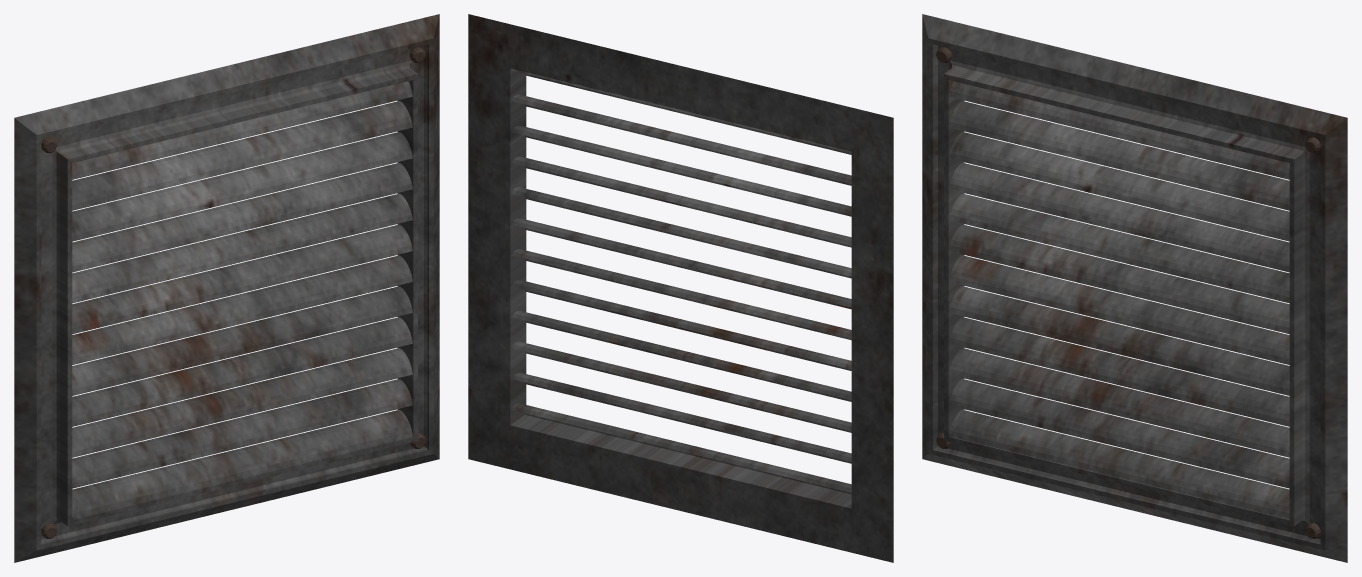
3 renders of one model, left to right at view 1: azimuth 30°, elevation 25°; view 2: azimuth 150°, elevation 25°; view 3: azimuth 330°, elevation 25°, orthographic.
Parts seen in each view (by area): view 1: vent_1; view 2: vent_1; view 3: vent_1.
Boxes of the visible parts, box(x1,y1,x2,y2) form: vent_1: box(14, 14, 439, 562); vent_1: box(468, 14, 893, 562); vent_1: box(922, 14, 1347, 562).
Bounding box in the file's own units: 0.9 × 0.9 × 0.058.
2 materials, 2 textured.
